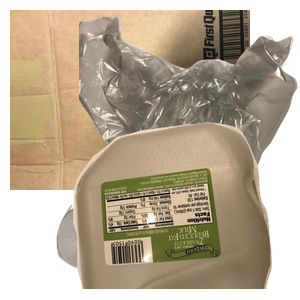cardboard: (10, 10, 250, 190)
glass: (54, 202, 193, 300)
plastic: (71, 120, 300, 300)
trash: (79, 14, 300, 194)
